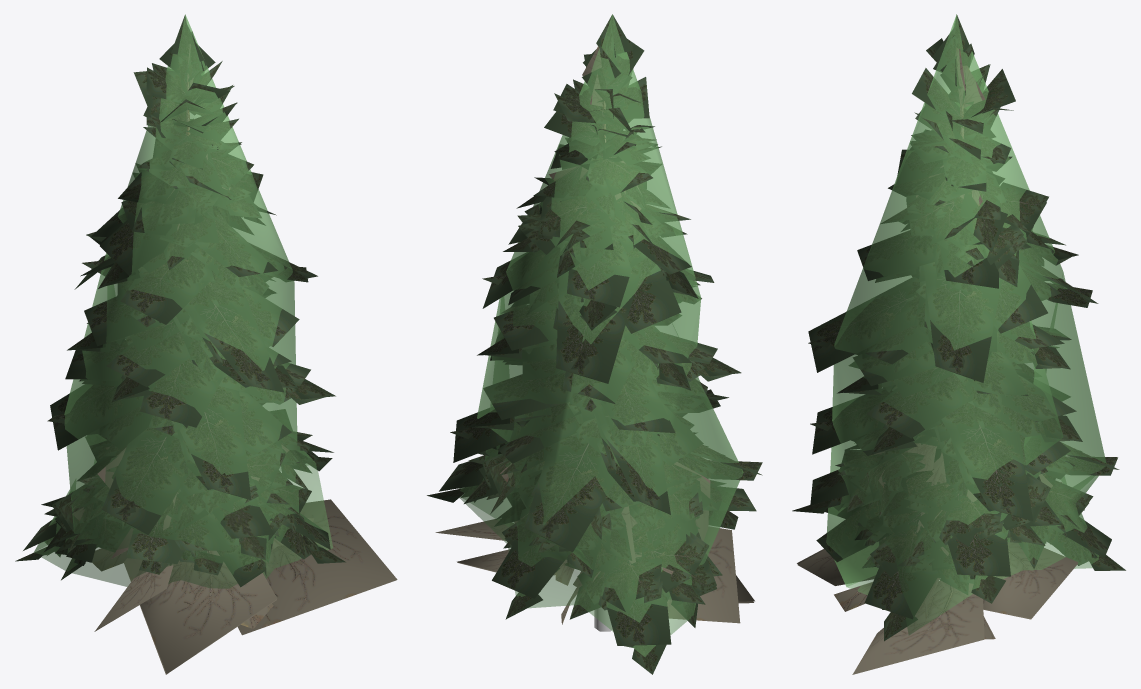
File: tree_douglasfir_small_b.dae
3 renders of one model, left to right at view 1: azimuth 30°, elevation 25°; view 2: azimuth 150°, elevation 25°; view 3: azimuth 270°, elevation 25°, orthographic. The views are drawn at different scales.
Visible parts, largest first — view 1: Colmesh_small_b-1, tree_douglasfir_small_b_a600, tree_douglasfir_small_b_a1400, tree_douglasfir_small_b_a1000; view 2: Colmesh_small_b-1, tree_douglasfir_small_b_a600, tree_douglasfir_small_b_a1400, tree_douglasfir_small_b_a1000; view 3: Colmesh_small_b-1, tree_douglasfir_small_b_a600, tree_douglasfir_small_b_a1400, tree_douglasfir_small_b_a1000.
Boxes of the visible parts, x1=… form: Colmesh_small_b-1: x1=33, y1=15, x2=332, y2=588; tree_douglasfir_small_b_a600: x1=23, y1=61, x2=335, y2=673; tree_douglasfir_small_b_a1400: x1=15, y1=14, x2=397, y2=674; tree_douglasfir_small_b_a1000: x1=30, y1=24, x2=395, y2=643; Colmesh_small_b-1: x1=459, y1=14, x2=743, y2=656; tree_douglasfir_small_b_a600: x1=439, y1=53, x2=761, y2=645; tree_douglasfir_small_b_a1400: x1=427, y1=23, x2=762, y2=674; tree_douglasfir_small_b_a1000: x1=436, y1=14, x2=760, y2=646; Colmesh_small_b-1: x1=826, y1=14, x2=1106, y2=635; tree_douglasfir_small_b_a600: x1=797, y1=51, x2=1119, y2=618; tree_douglasfir_small_b_a1400: x1=792, y1=14, x2=1125, y2=674; tree_douglasfir_small_b_a1000: x1=797, y1=44, x2=1118, y2=666.
Size of the model in its own units: 5.56 by 5.57 by 11.21.
